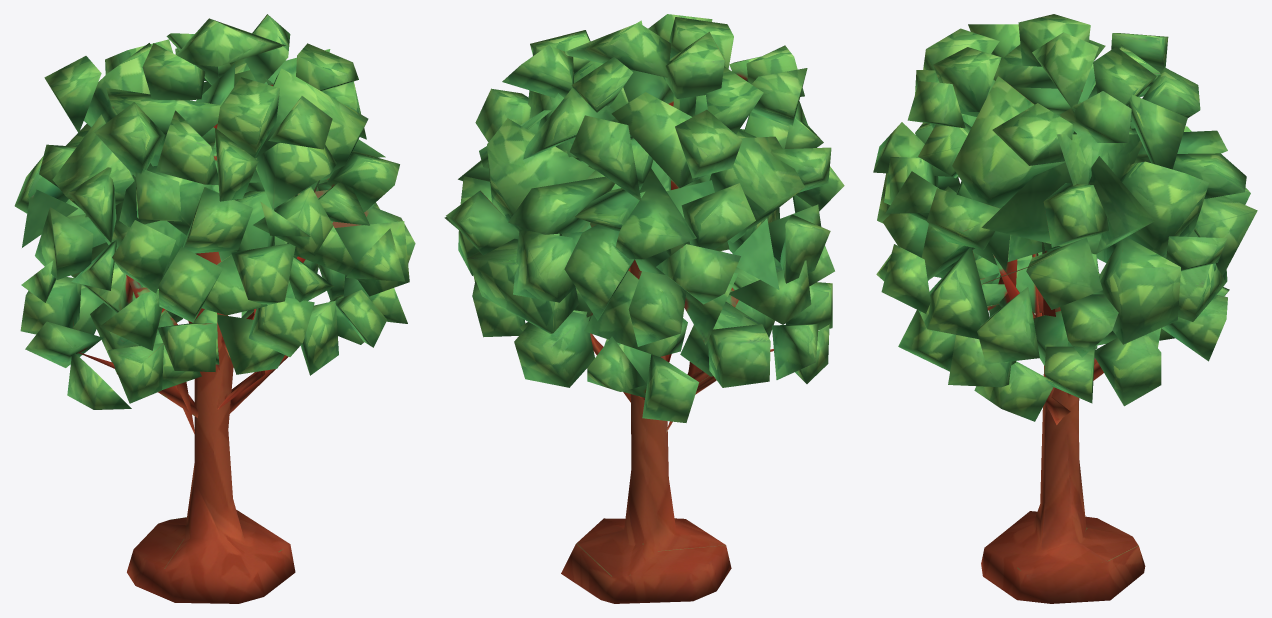
File: meshy_tree_deciduous.glb
3 views of the same model, side by side, from view 1: azimuth 30°, elevation 25°; view 2: azimuth 150°, elevation 25°; view 3: azimuth 270°, elevation 25° (orthographic).
Bounding box in the file's own units: 0.6484 × 0.9531 × 0.6128.
1 material, 1 textured.
